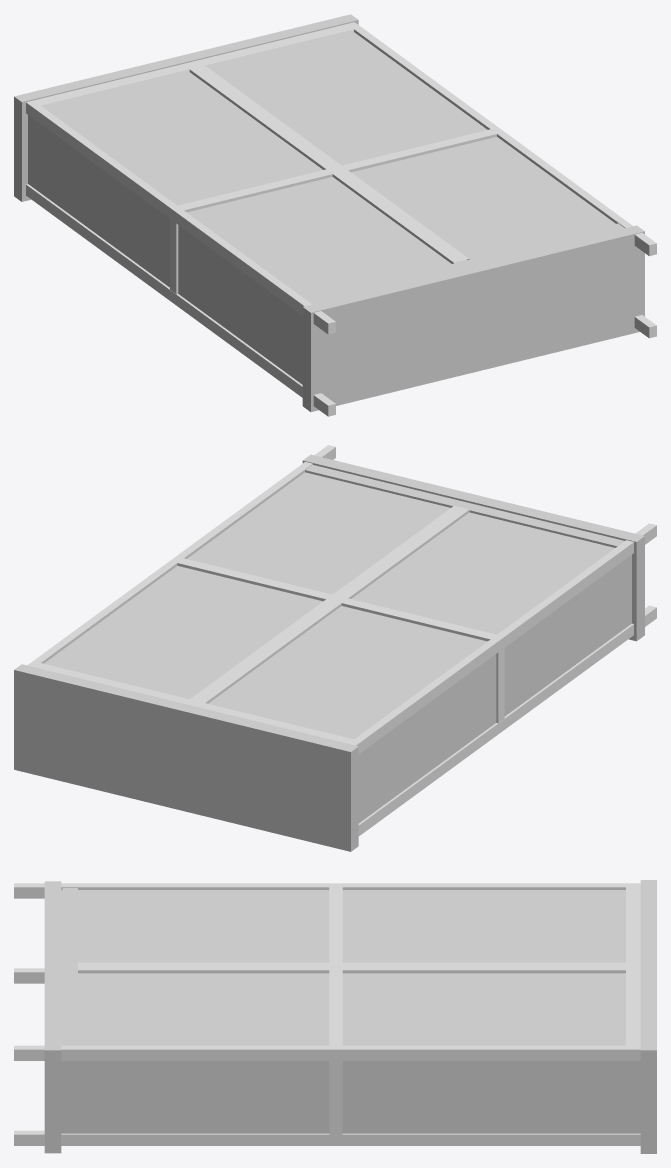
The model's file is console.glb.
3 views of the same model, one above another, from view 1: azimuth 30°, elevation 25°; view 2: azimuth 150°, elevation 25°; view 3: azimuth 270°, elevation 25° (orthographic). The views are drawn at different scales.
Visible parts, largest first — view 1: closet_013; view 2: closet_013; view 3: closet_013.
Boxes of the visible parts, bbox=[...] form: closet_013: bbox=[14, 14, 656, 416]; closet_013: bbox=[14, 445, 656, 851]; closet_013: bbox=[14, 880, 656, 1153].
Bounding box in the file's own units: 1.24 × 0.3511 × 1.98.
1 material, 1 textured.
